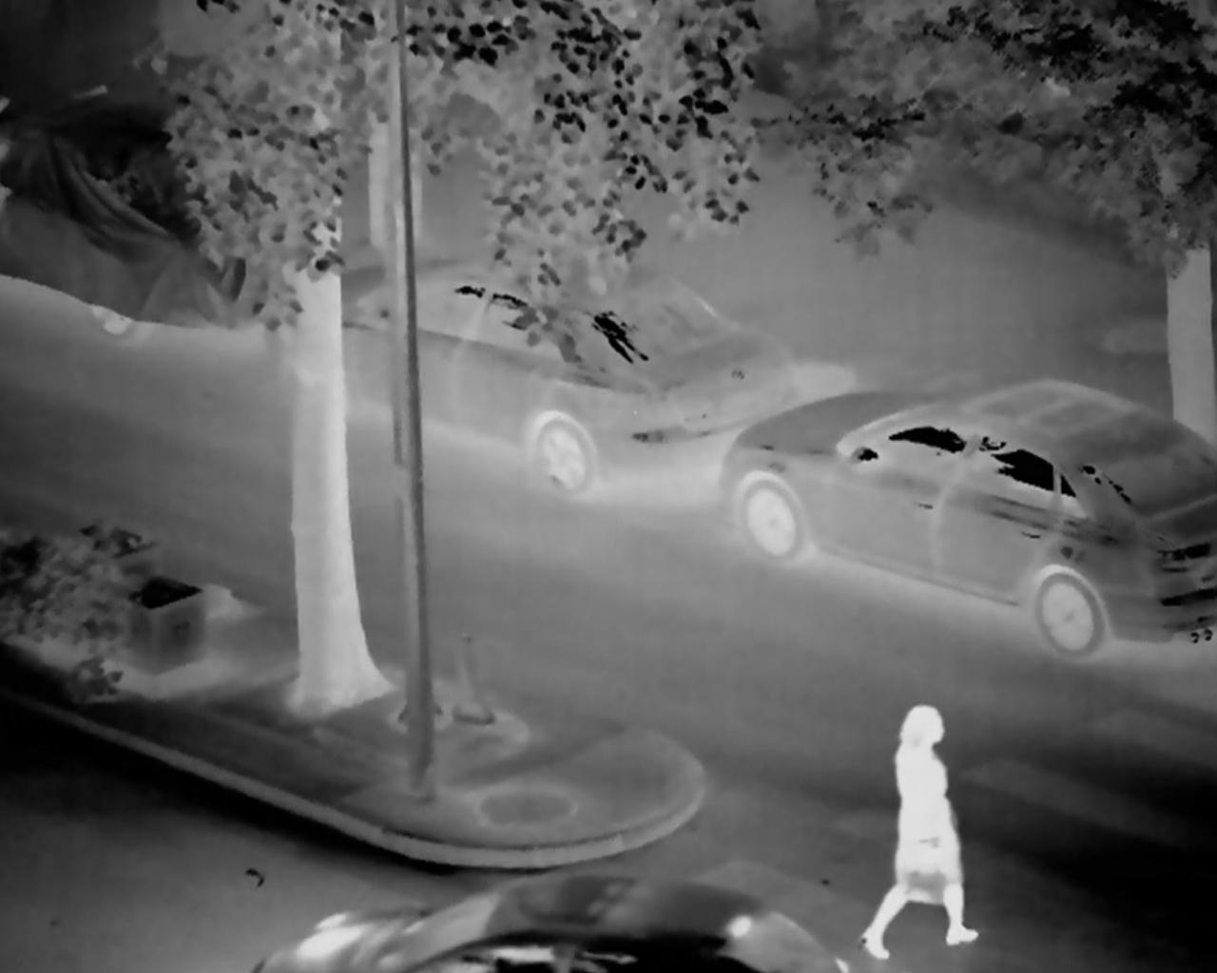person: (855, 703, 979, 959)
